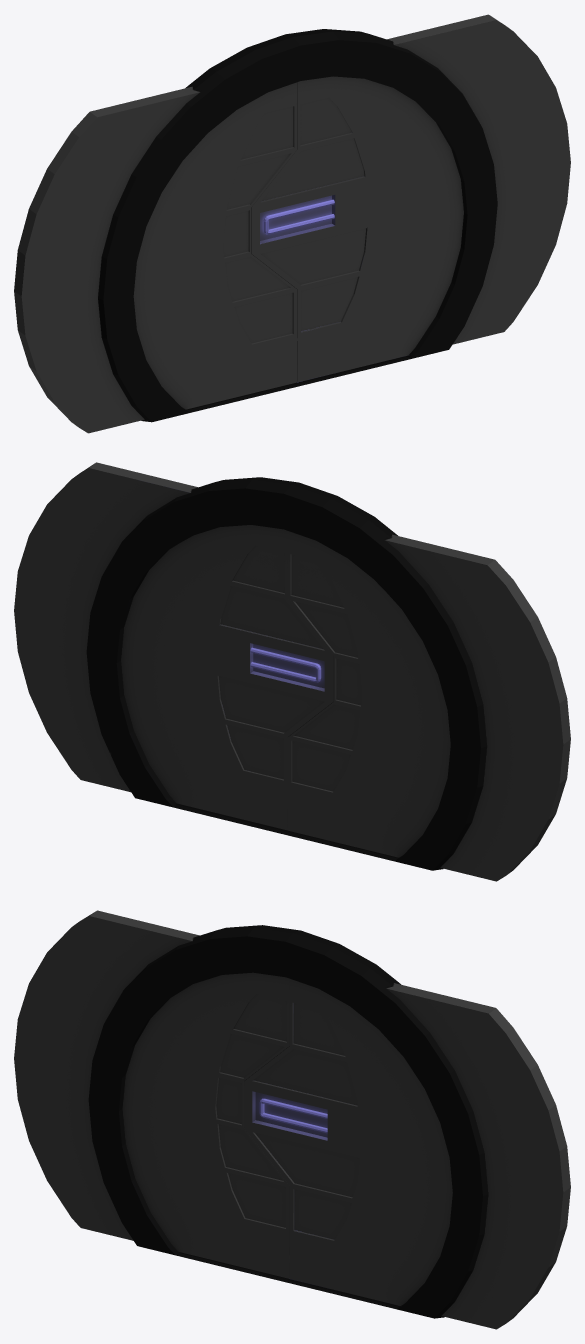
Rendered from door.fbx.
3 renders of one model, top to bottom at view 1: azimuth 30°, elevation 25°; view 2: azimuth 150°, elevation 25°; view 3: azimuth 330°, elevation 25°, orthographic.
Parts seen in each view (by area): view 1: Right_Door, Left_Door, Arco; view 2: Right_Door, Left_Door, Arco; view 3: Right_Door, Left_Door, Arco.
Part boxes in pixels (x1,y1,x2,y2): Right_Door: [251, 14, 570, 382]; Left_Door: [14, 82, 297, 433]; Arco: [98, 29, 497, 422]; Right_Door: [14, 462, 333, 830]; Left_Door: [287, 531, 570, 881]; Arco: [86, 477, 486, 870]; Right_Door: [244, 979, 570, 1329]; Left_Door: [14, 910, 289, 1278]; Arco: [88, 925, 488, 1318].
Bounding box in the file's own units: 13.95 × 8.43 × 0.6794.
Materials: 4 (4 with a texture image).
